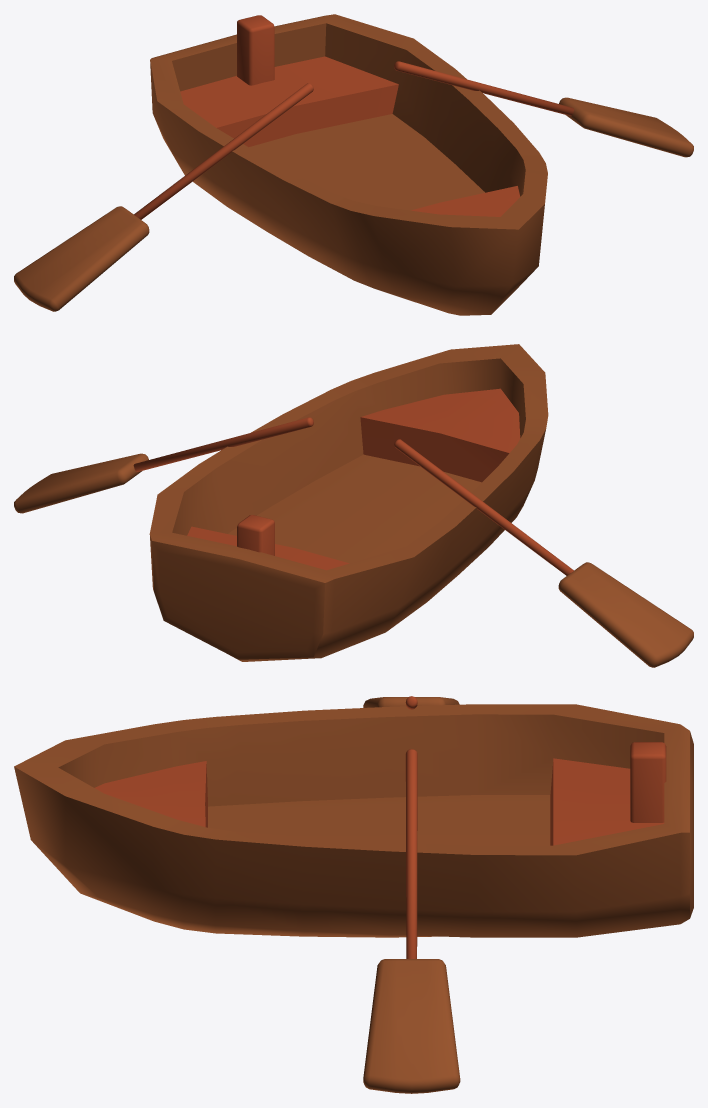
File: rowboat.glb
3 views of the same model, one above another, from view 1: azimuth 30°, elevation 25°; view 2: azimuth 150°, elevation 25°; view 3: azimuth 270°, elevation 25° (orthographic). The views are drawn at different scales.
Visible parts, largest first — view 1: rowboat; view 2: rowboat; view 3: rowboat.
Boxes of the visible parts, x1,y1,x2,y2 form: rowboat: (14,14,693,315); rowboat: (14,344,693,667); rowboat: (14,696,693,1093).
Size of the model in its own units: 2.77 by 0.722 by 2.07.
1 material, 1 textured.
